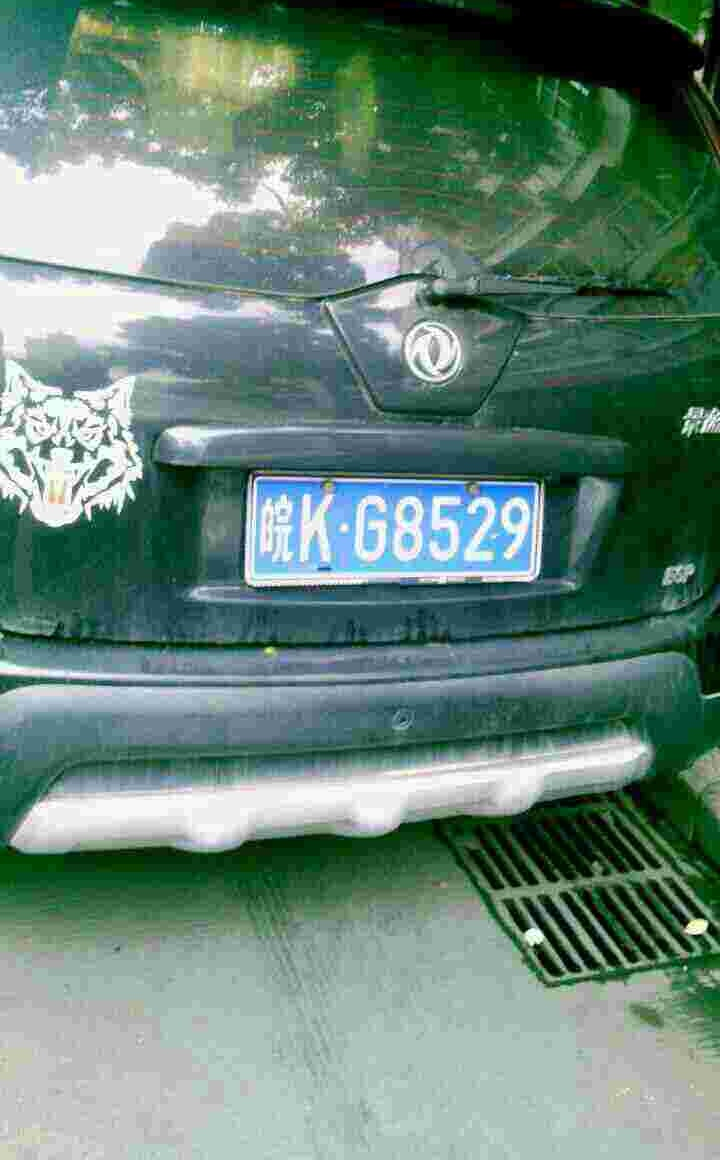license_plate: (251, 480, 529, 580)
